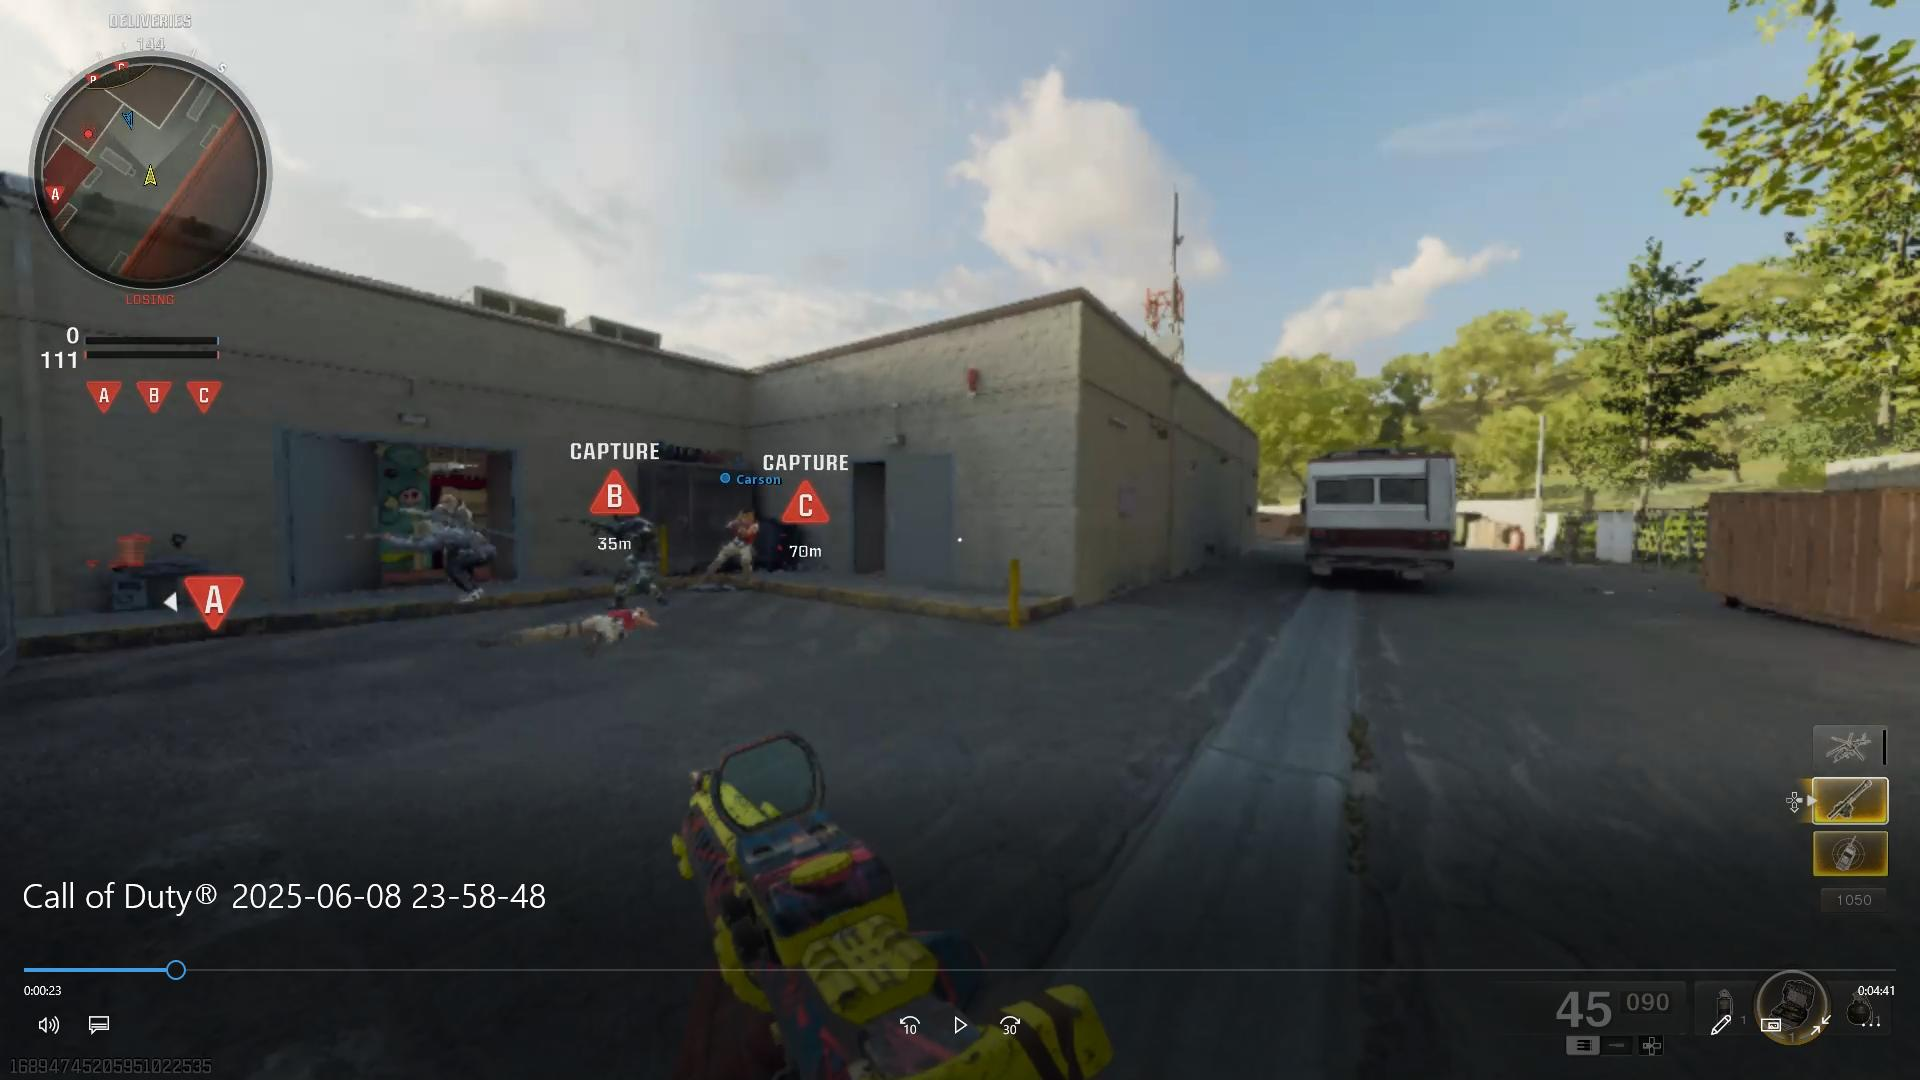Enemy: (389, 516, 495, 611), (588, 518, 673, 604), (708, 502, 761, 587)
